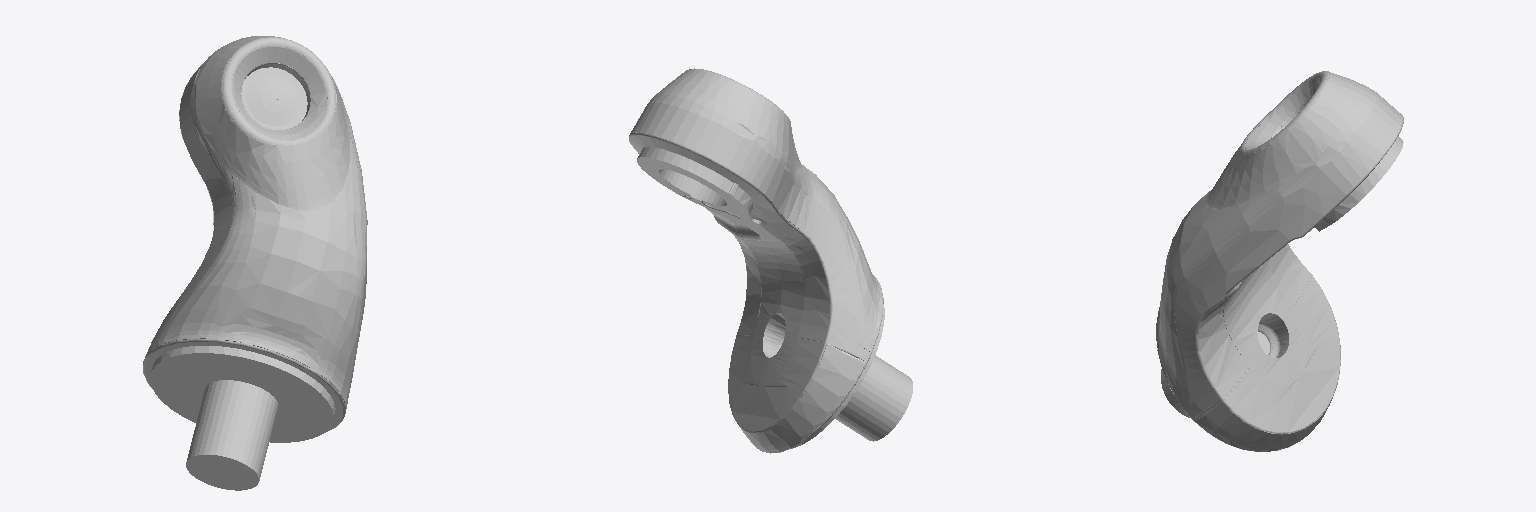
The model's file is IRB14000_rev00_Link5_R.obj.
The picture shows the model from 3 angles: view 1: azimuth 30°, elevation 25°; view 2: azimuth 150°, elevation 25°; view 3: azimuth 270°, elevation 25°; orthographic projection.
Visible parts, largest first — view 1: Link5_R3.0, Link5_R3.0-2, Link5_R3.0-1; view 2: Link5_R3.0, Link5_R3.0-1, Link5_R3.0-2; view 3: Link5_R3.0, Link5_R3.0-1, Link5_R3.0-2.
Part boxes in pixels (bbox=[...]): Link5_R3.0: bbox=[143, 36, 367, 433]; Link5_R3.0-2: bbox=[150, 353, 333, 490]; Link5_R3.0-1: bbox=[151, 67, 335, 419]; Link5_R3.0: bbox=[629, 68, 883, 453]; Link5_R3.0-1: bbox=[637, 147, 884, 448]; Link5_R3.0-2: bbox=[659, 169, 912, 441]; Link5_R3.0: bbox=[1156, 71, 1403, 451]; Link5_R3.0-1: bbox=[1224, 136, 1403, 382]; Link5_R3.0-2: bbox=[1161, 286, 1277, 417].
Bounding box in the file's own units: 0.0956 × 0.1688 × 0.0986.